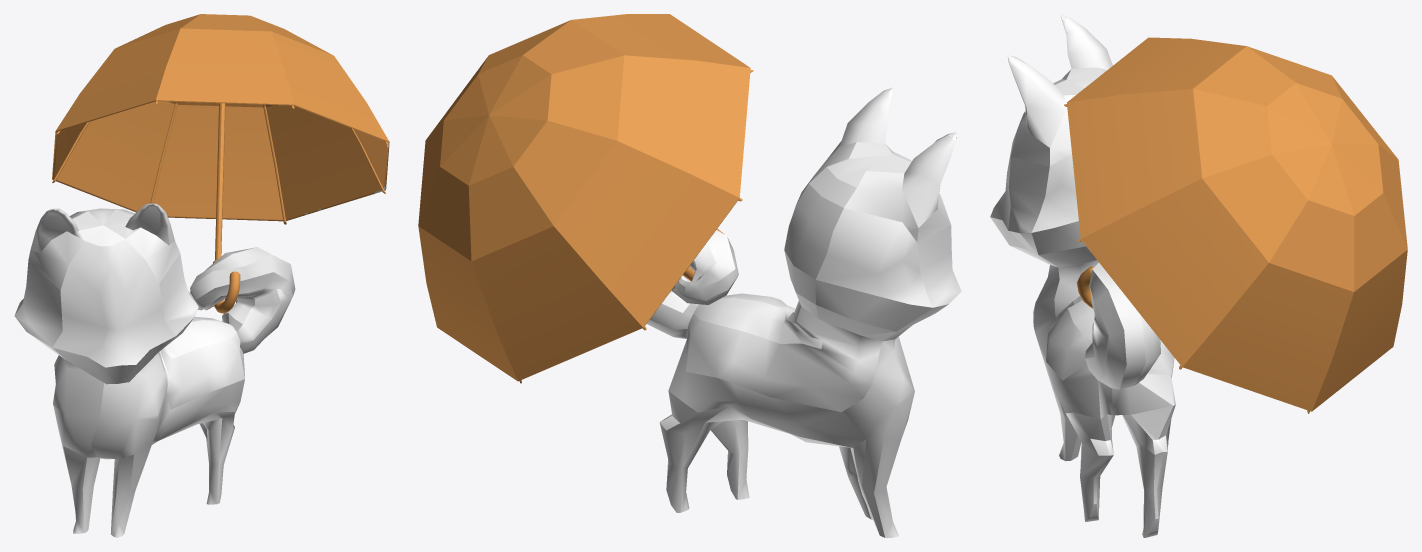
File: umbrella_Frame42.obj
The picture shows the model from 3 angles, left to right: view 1: azimuth 30°, elevation 25°; view 2: azimuth 150°, elevation 25°; view 3: azimuth 270°, elevation 25°; orthographic projection. The views are drawn at different scales.
Parts seen in each view (by area): view 1: polySurface4, newRigging:BodzL1; view 2: polySurface4, newRigging:BodzL1; view 3: polySurface4, newRigging:BodzL1.
Part boxes in pixels (x1,y1,x2,y2): polySurface4: [52, 14, 389, 313]; newRigging:BodzL1: [14, 203, 295, 537]; polySurface4: [418, 14, 753, 383]; newRigging:BodzL1: [647, 87, 961, 537]; polySurface4: [1064, 37, 1407, 413]; newRigging:BodzL1: [990, 14, 1175, 537].
Size of the model in its own units: 9.57 by 9.69 by 7.44.
Materials: 2 (1 with a texture image).
